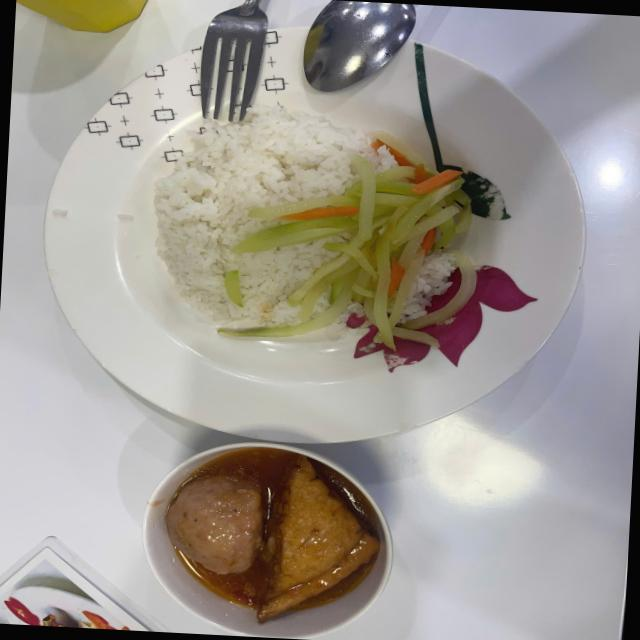com: (154, 106, 369, 328), (401, 252, 455, 323)
dau hu: (258, 459, 380, 619)
kho trung: (166, 476, 262, 575)
rau: (221, 149, 477, 349)
